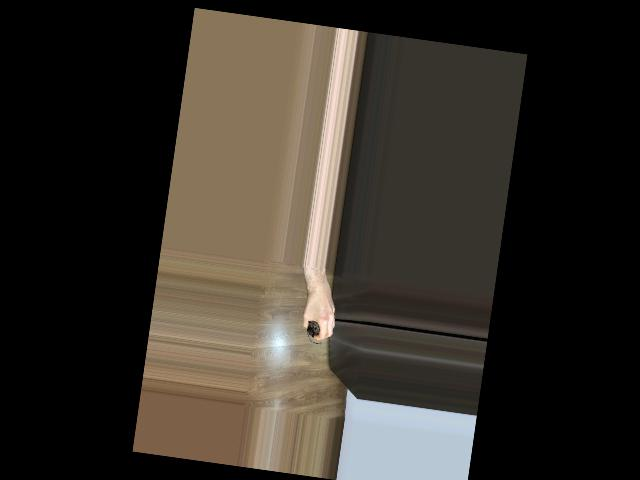beet: (304, 320, 324, 345)
